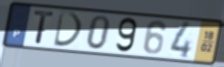0: (85, 14, 111, 50)
4: (169, 20, 194, 60)
6: (142, 19, 167, 55)
9: (115, 17, 139, 53)
D: (52, 10, 85, 49)
T: (32, 9, 56, 45)
